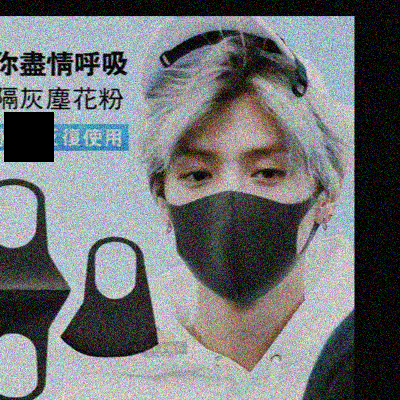with_mask: (161, 138, 315, 307)
